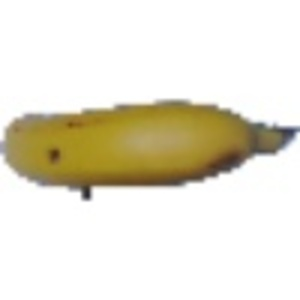banana: (1, 95, 287, 189)
